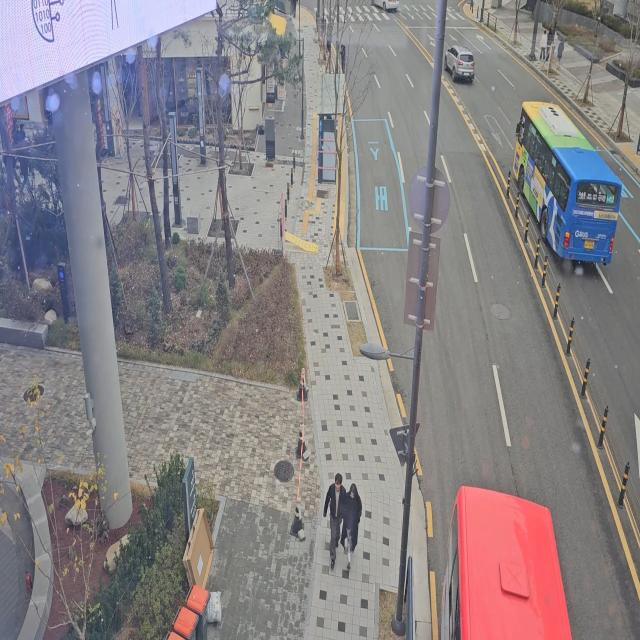Bus: (433, 473, 578, 640), (510, 91, 622, 264)
Car: (440, 27, 477, 88), (369, 0, 400, 12)
